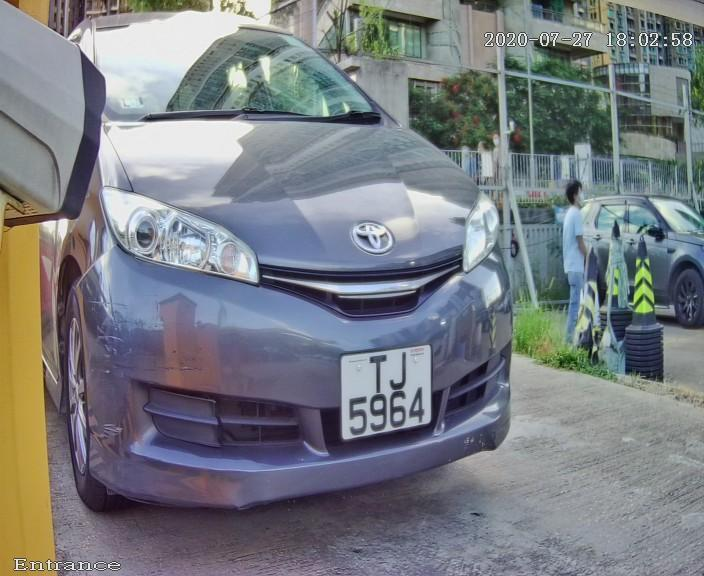privatecar: (35, 6, 582, 543)
